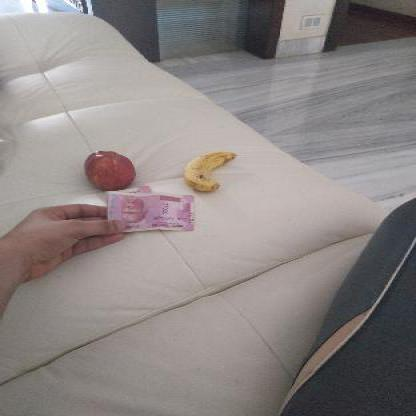New2000Front: (107, 193, 200, 231)
